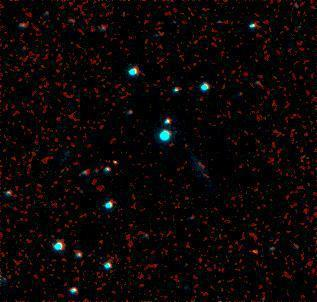star: (241, 240, 271, 270)
